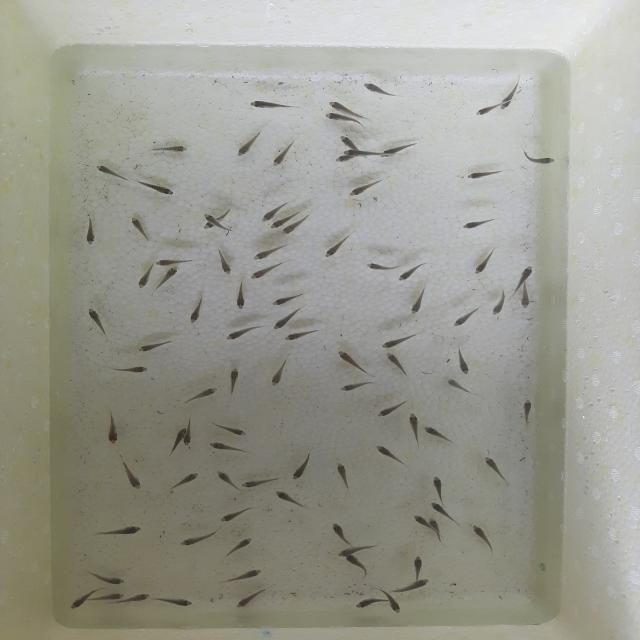fingerling: (335, 347, 377, 379), (479, 453, 514, 489), (178, 382, 222, 408), (373, 441, 409, 471), (91, 160, 132, 186), (116, 452, 144, 490), (92, 520, 144, 540), (398, 257, 434, 285), (268, 353, 296, 389), (233, 128, 263, 161), (323, 229, 353, 262), (177, 526, 221, 548), (378, 329, 424, 350), (127, 212, 157, 244), (166, 468, 202, 494), (290, 449, 318, 482), (469, 523, 498, 554), (272, 488, 311, 511), (232, 588, 271, 611), (331, 460, 357, 494), (221, 564, 265, 584), (85, 306, 112, 338), (219, 535, 255, 559), (359, 80, 402, 100), (246, 98, 299, 114), (269, 139, 298, 168), (269, 288, 311, 308), (204, 439, 256, 455), (522, 146, 558, 169), (78, 213, 101, 249), (346, 178, 383, 200), (384, 352, 413, 380), (210, 419, 250, 439), (443, 376, 479, 398), (152, 593, 198, 610), (152, 266, 182, 292), (222, 324, 261, 344), (500, 79, 524, 111), (136, 178, 176, 197), (472, 248, 497, 278), (132, 339, 176, 356), (224, 364, 246, 398), (450, 306, 481, 330), (103, 408, 123, 445), (461, 166, 507, 182), (214, 467, 242, 493), (247, 262, 280, 284), (405, 408, 423, 448), (187, 292, 208, 326), (269, 309, 303, 330), (408, 287, 431, 318), (422, 423, 454, 445), (374, 399, 408, 419), (452, 344, 473, 376), (146, 142, 193, 156), (326, 520, 352, 545), (250, 243, 284, 262), (393, 578, 431, 595), (106, 362, 152, 376), (351, 594, 385, 612), (216, 244, 235, 276), (359, 258, 397, 274), (460, 216, 498, 232), (334, 379, 372, 395), (282, 328, 322, 343), (384, 140, 426, 154), (518, 394, 536, 426), (66, 588, 90, 612), (488, 290, 508, 318), (239, 475, 279, 489), (88, 572, 128, 586), (429, 472, 448, 501), (233, 278, 250, 310), (219, 506, 250, 523), (517, 284, 535, 310), (127, 588, 153, 606), (408, 552, 425, 578), (515, 261, 536, 282), (136, 266, 153, 290), (428, 499, 449, 518), (472, 104, 498, 119), (154, 257, 192, 267), (320, 111, 348, 124), (386, 595, 404, 615), (96, 590, 126, 602), (335, 546, 370, 556), (343, 149, 385, 157), (338, 134, 358, 148), (328, 100, 348, 112), (411, 513, 427, 527), (182, 430, 195, 447), (280, 224, 294, 238), (258, 212, 274, 224), (266, 220, 284, 230), (427, 516, 440, 528), (201, 212, 215, 222), (333, 156, 347, 164)
